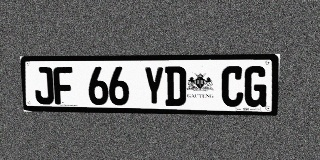6: (88, 67, 109, 105), (108, 67, 129, 105)
C: (221, 66, 244, 107)
D: (165, 66, 186, 106)
F: (53, 67, 74, 105)
G: (244, 66, 268, 107)
J: (33, 67, 54, 104)
Y: (143, 66, 164, 106)
